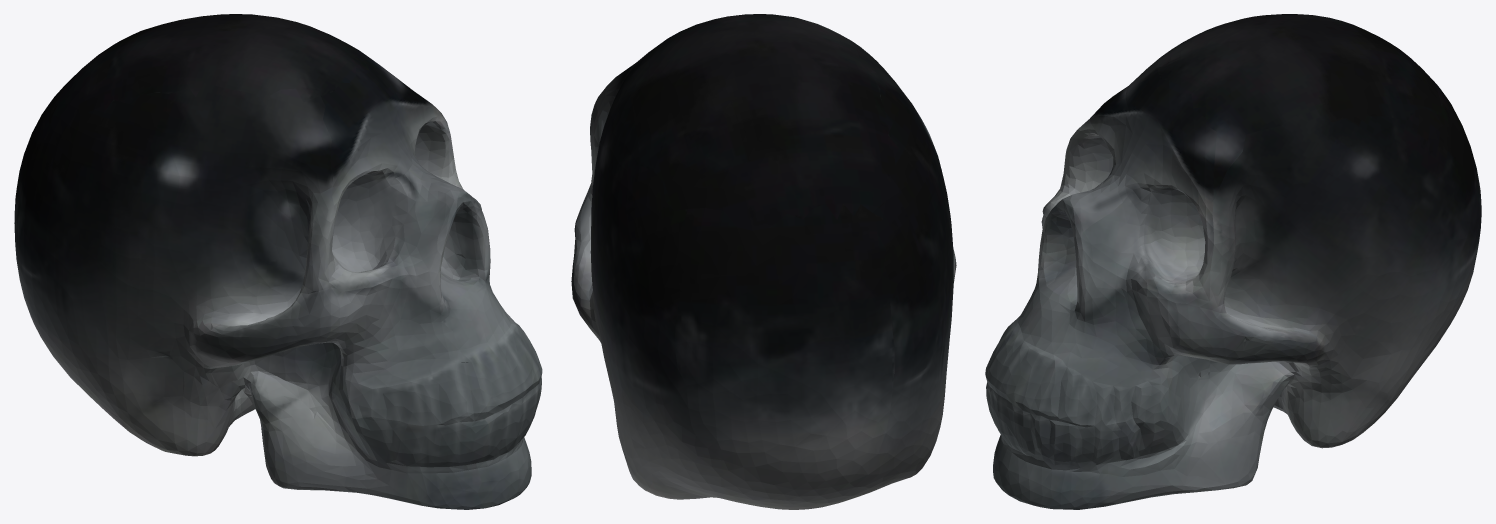
Rendered from crystal-skull.glb.
The picture shows the model from 3 angles, left to right: view 1: azimuth 30°, elevation 25°; view 2: azimuth 150°, elevation 25°; view 3: azimuth 270°, elevation 25°; orthographic projection. The views are drawn at different scales.
Visible parts, largest first — view 1: geometry_0; view 2: geometry_0; view 3: geometry_0.
Boxes of the visible parts, left/top/right/bottom form: geometry_0: left=14, top=14, right=542, bottom=509; geometry_0: left=571, top=14, right=956, bottom=509; geometry_0: left=985, top=14, right=1481, bottom=509.
Size of the model in its own units: 0.547 by 0.5777 by 0.6526.
1 material, 1 textured.
